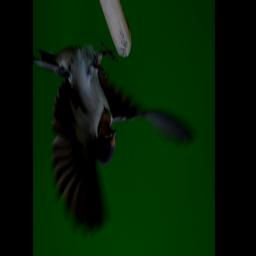Swallow: (36, 41, 195, 237)
